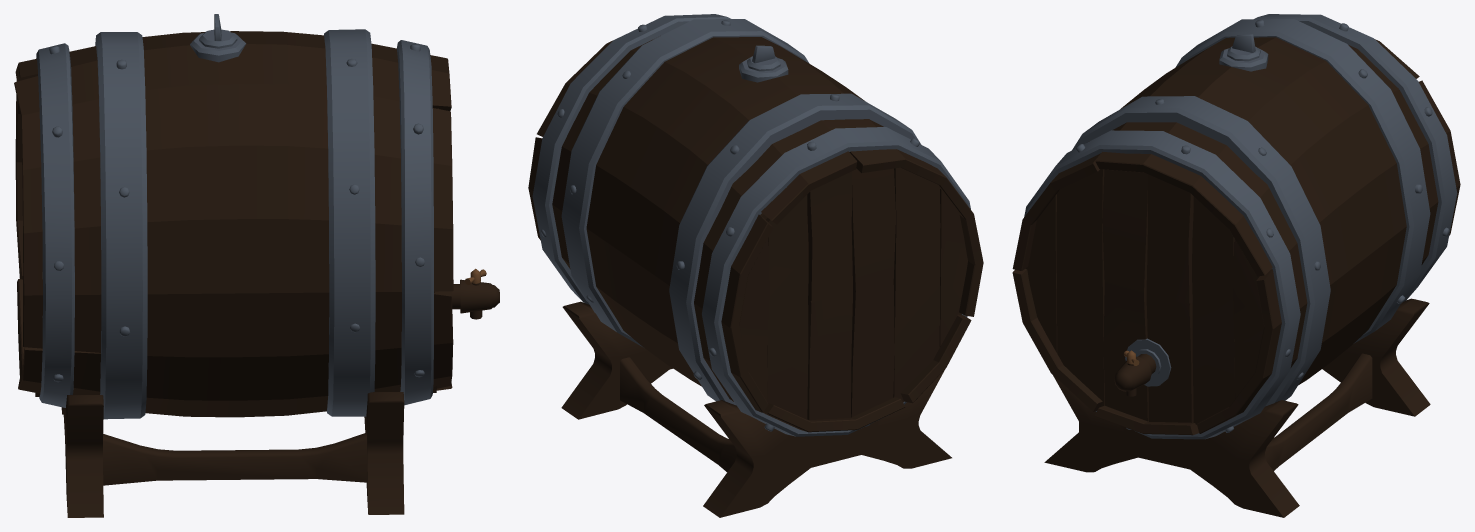
The model's file is Galon.fbx.
The picture shows the model from 3 angles, left to right: view 1: azimuth 30°, elevation 25°; view 2: azimuth 150°, elevation 25°; view 3: azimuth 270°, elevation 25°; orthographic projection. The views are drawn at different scales.
Visible parts, largest first — view 1: barrel-body, barrel-rings, barrel-holders.001, barrel-holders, barrel-output, barrel-top, barrel-nails; view 2: barrel-body, barrel-sides, barrel-rings, barrel-holders.001, barrel-holders, barrel-top, barrel-nails; view 3: barrel-body, barrel-sides, barrel-rings, barrel-holders.001, barrel-holders, barrel-output, barrel-top, barrel-nails.
Boxes of the visible parts, x1,y1,x2,y2 form: barrel-body: (14, 31, 453, 417); barrel-rings: (36, 29, 433, 419); barrel-holders.001: (61, 392, 404, 517); barrel-holders: (103, 432, 366, 485); barrel-output: (451, 268, 499, 319); barrel-top: (190, 14, 246, 62); barrel-nails: (49, 44, 424, 382); barrel-body: (528, 37, 983, 432); barrel-sides: (739, 167, 967, 419); barrel-rings: (532, 14, 970, 436); barrel-holders.001: (561, 301, 951, 517); barrel-holders: (620, 357, 736, 471); barrel-top: (739, 45, 788, 82); barrel-nails: (541, 20, 919, 431); barrel-body: (1012, 37, 1460, 435); barrel-sides: (1025, 169, 1264, 424); barrel-rings: (1024, 14, 1457, 439); barrel-holders.001: (1044, 298, 1430, 517); barrel-holders: (1265, 353, 1372, 470); barrel-output: (1114, 338, 1171, 396); barrel-top: (1219, 34, 1268, 71); barrel-nails: (1075, 20, 1449, 432).
Size of the model in its own units: 842 by 757 by 778.
